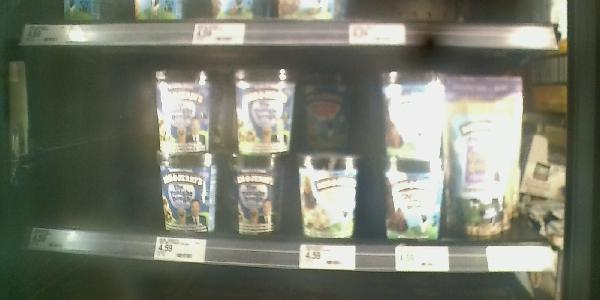icecream1: (444, 75, 524, 235), (152, 154, 219, 236), (231, 68, 295, 153), (383, 150, 442, 242), (153, 67, 214, 154), (298, 155, 359, 242), (382, 68, 442, 146), (231, 154, 285, 235)
